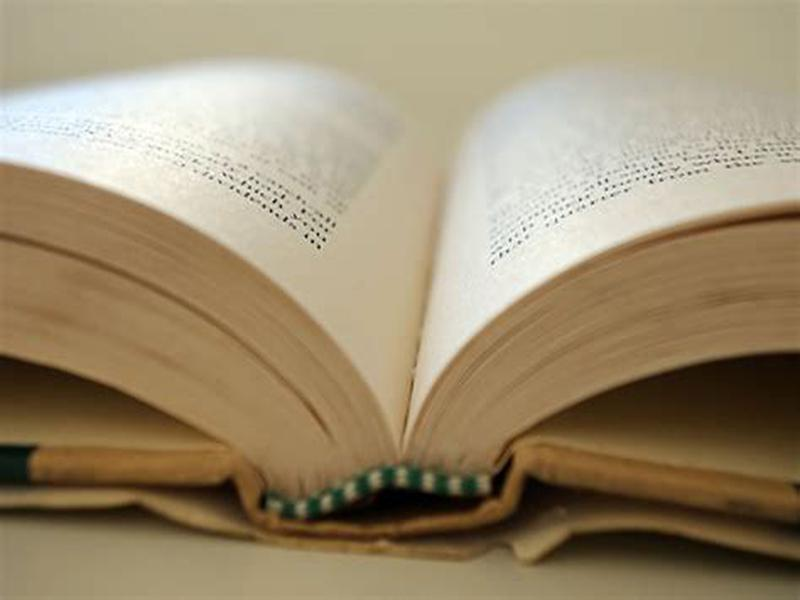book: (3, 45, 800, 583)
